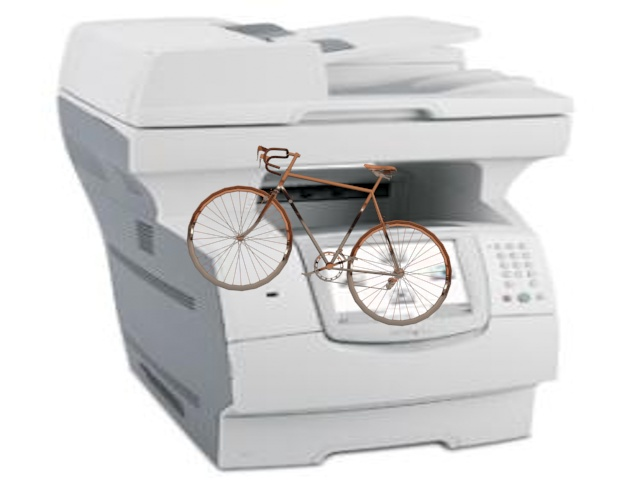bike: (177, 144, 464, 336)
